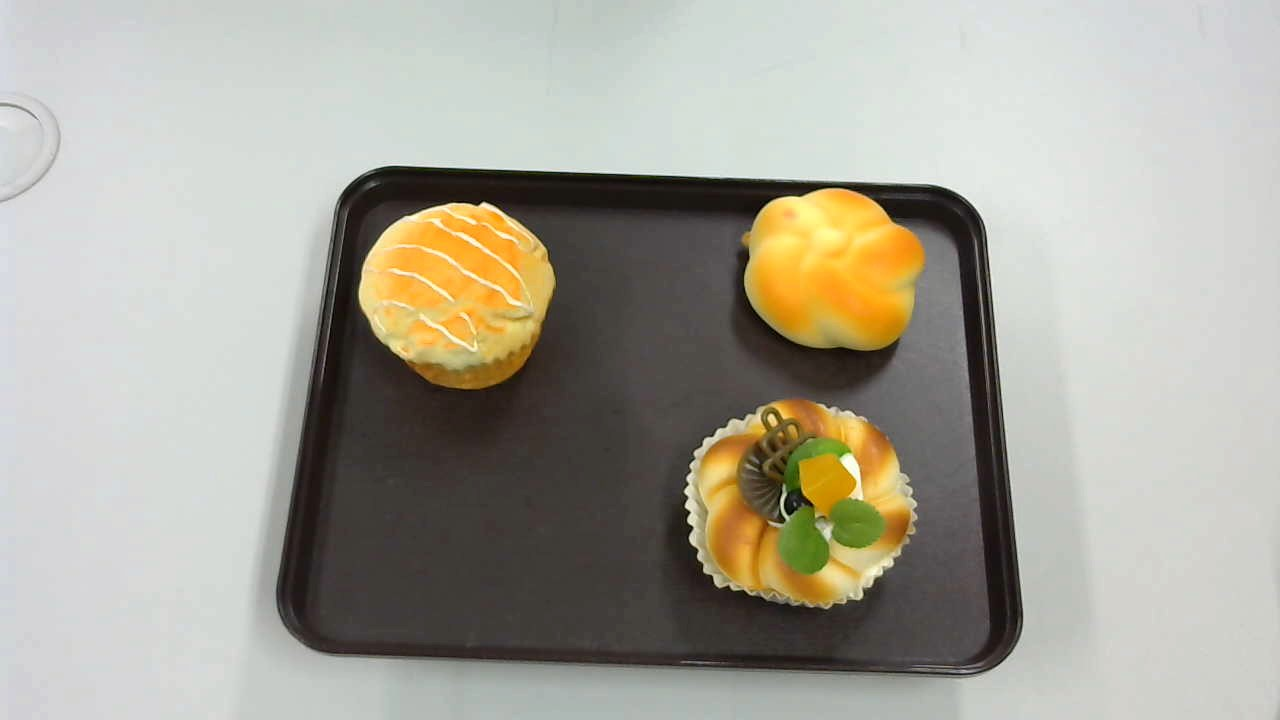croissant: (740, 189, 925, 352)
cupcake: (358, 202, 555, 391)
fruit tart: (685, 397, 918, 612)
